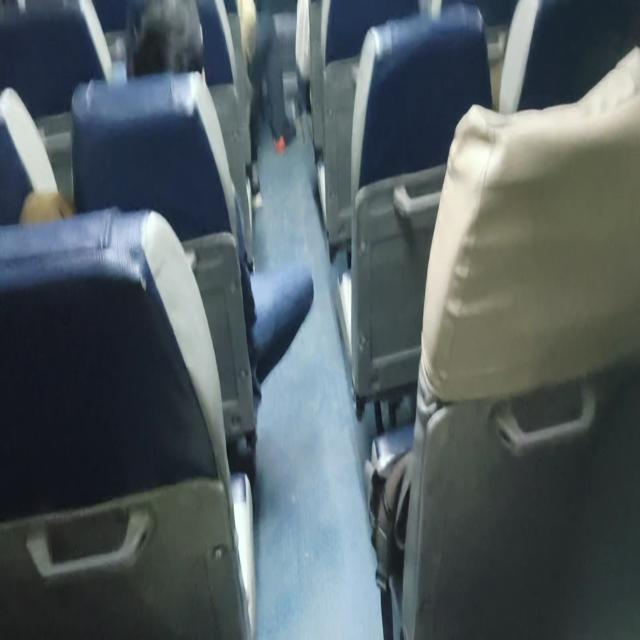person: (114, 0, 206, 87)
